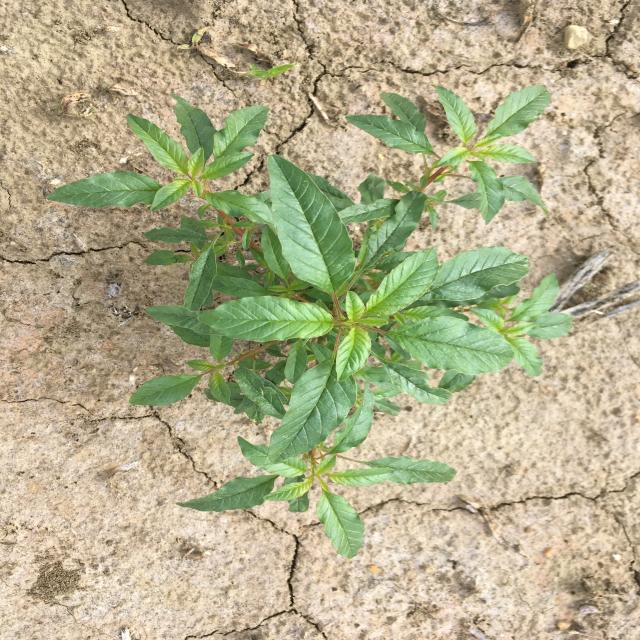Waterhemp: (46, 83, 575, 560)
